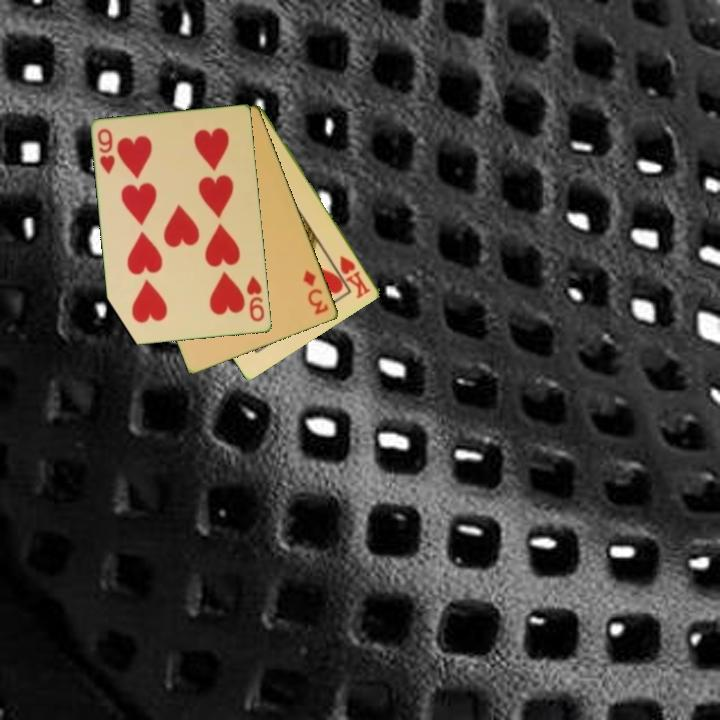3d: (300, 267, 332, 318)
9h: (243, 272, 267, 325), (94, 125, 118, 178)
Kh: (336, 252, 374, 301)
